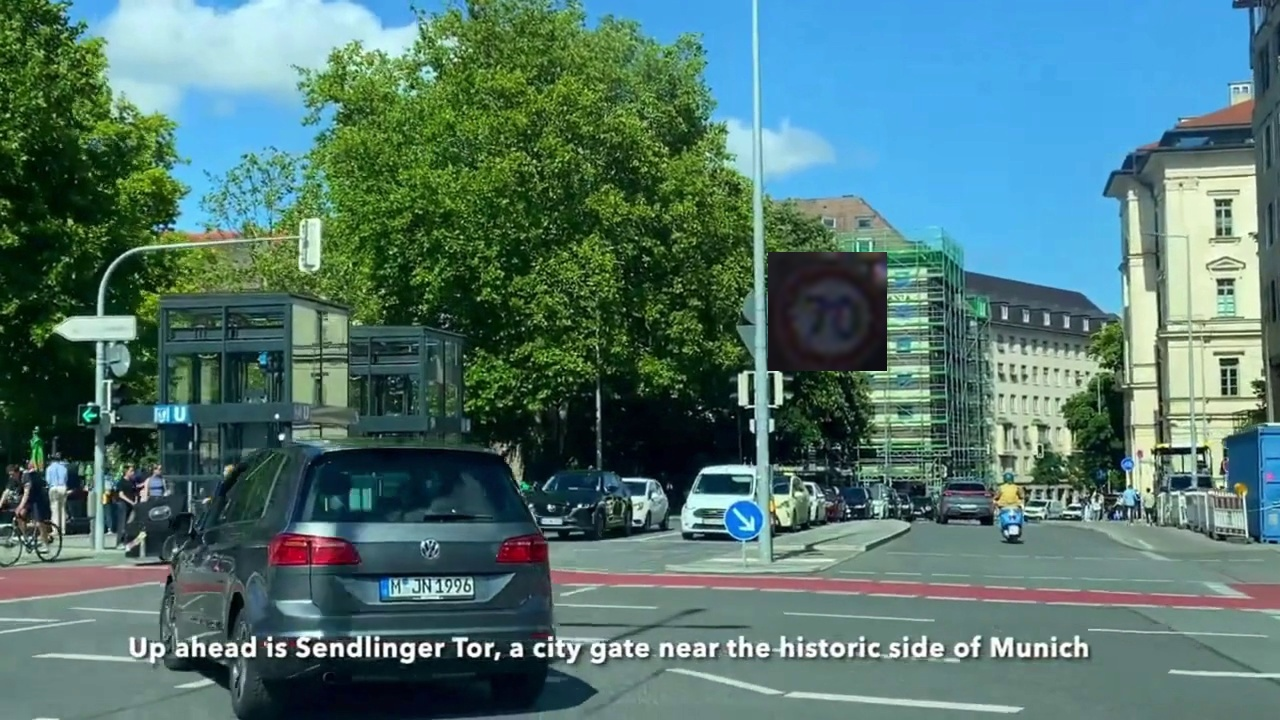Speed 70: (768, 252, 887, 371)
